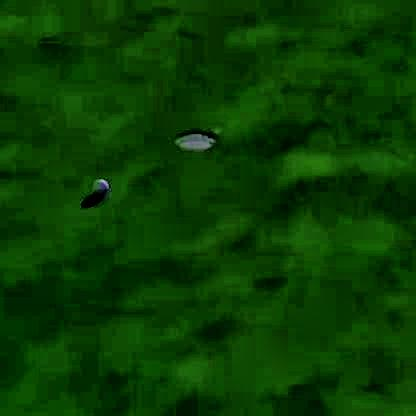golfball: (90, 174, 108, 193)
